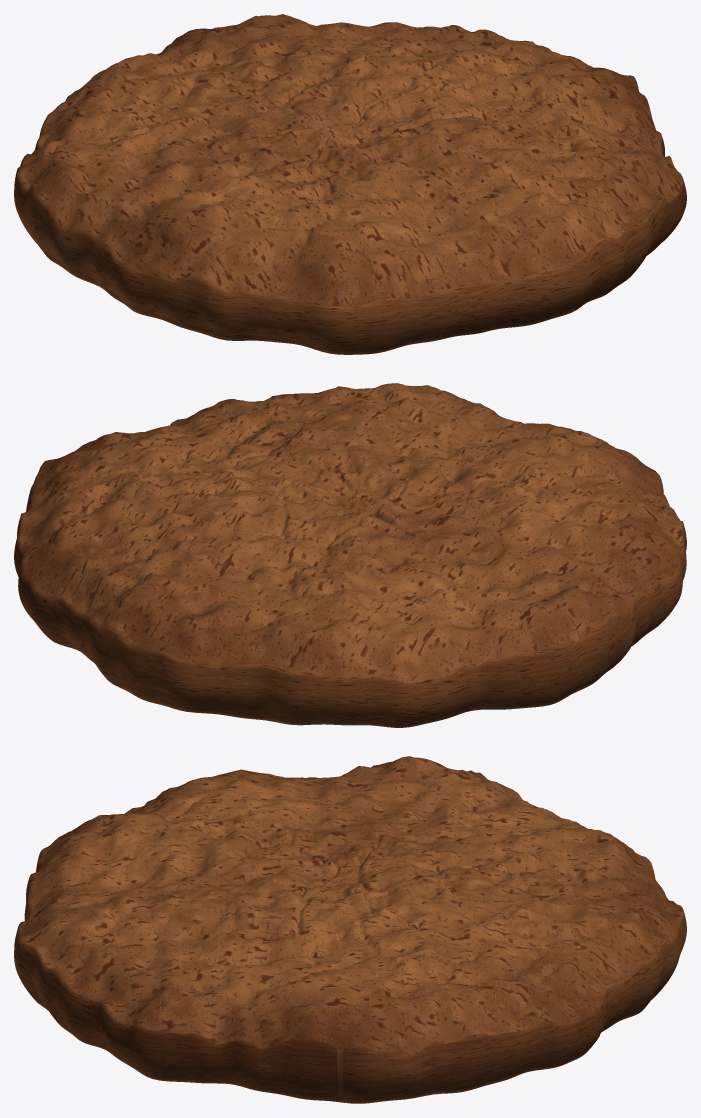
File: date-cinnamon.glb
The picture shows the model from 3 angles, top to bottom: view 1: azimuth 30°, elevation 25°; view 2: azimuth 150°, elevation 25°; view 3: azimuth 270°, elevation 25°; orthographic projection. The views are drawn at different scales.
Visible parts, largest first — view 1: Builder dough | date-cinnamon; view 2: Builder dough | date-cinnamon; view 3: Builder dough | date-cinnamon.
Part boxes in pixels (x1=…): Builder dough | date-cinnamon: x1=14, y1=14, x2=686, y2=354; Builder dough | date-cinnamon: x1=14, y1=383, x2=686, y2=727; Builder dough | date-cinnamon: x1=14, y1=756, x2=686, y2=1103.
Size of the model in its own units: 4.99 by 0.8773 by 4.98.
Materials: 2 (2 with a texture image).
